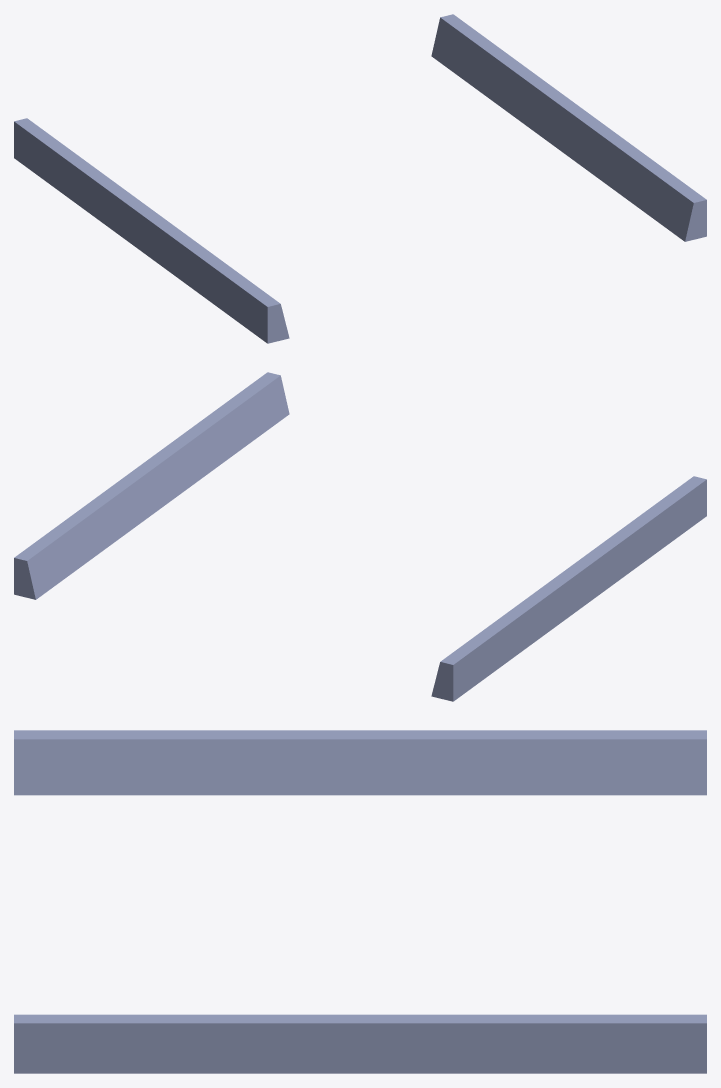
The model's file is road-straight-barrier.glb.
3 views of the same model, one above another, from view 1: azimuth 30°, elevation 25°; view 2: azimuth 150°, elevation 25°; view 3: azimuth 270°, elevation 25° (orthographic). The views are drawn at different scales.
Visible parts, largest first — view 1: road-straight-barrier; view 2: road-straight-barrier; view 3: road-straight-barrier.
Boxes of the visible parts, x1=… form: road-straight-barrier: x1=14, y1=14, x2=706, y2=343; road-straight-barrier: x1=14, y1=372, x2=706, y2=701; road-straight-barrier: x1=14, y1=730, x2=706, y2=1073.
Bounding box in the file's own units: 10 × 0.7996 × 10.
1 material, 1 textured.
